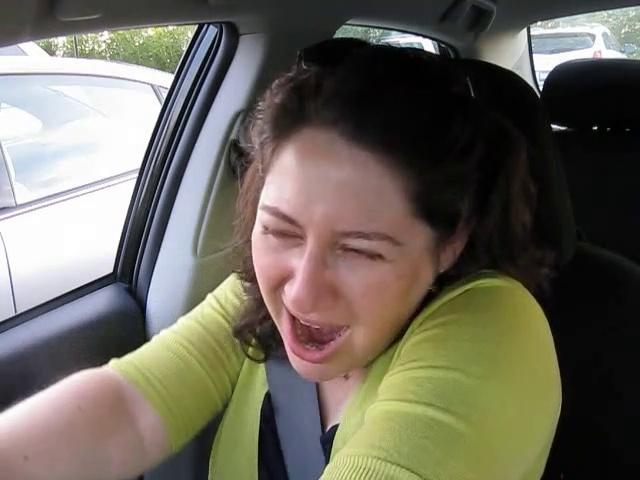close_eyeL: (247, 212, 312, 259)
close_eyeR: (316, 231, 402, 275)
yawn: (268, 310, 362, 368)
